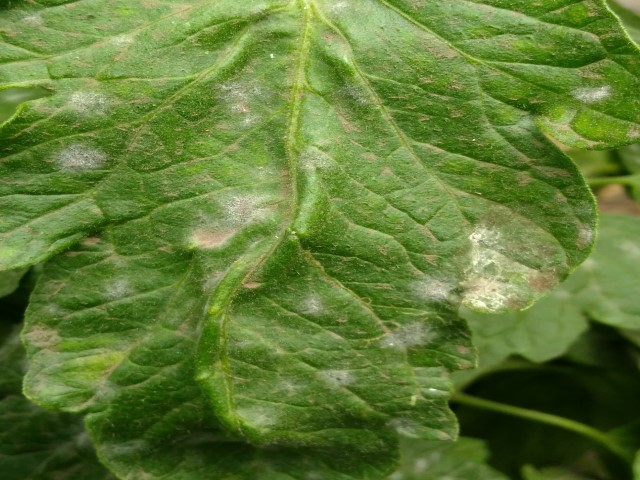blanca: (207, 71, 275, 136), (47, 137, 115, 177), (404, 271, 466, 305), (375, 323, 440, 353), (218, 190, 276, 223), (72, 86, 122, 116), (315, 365, 367, 392), (94, 268, 134, 302), (464, 220, 505, 250), (572, 82, 615, 110), (302, 289, 331, 313)
